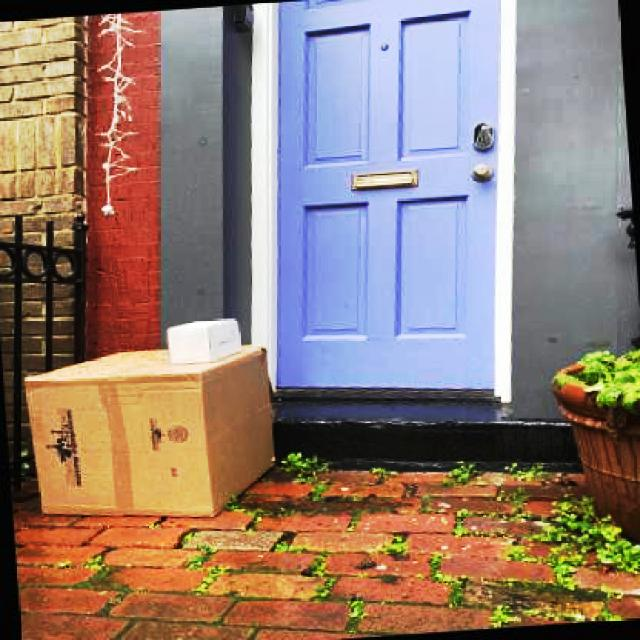Box: (20, 336, 292, 533), (159, 310, 250, 368)
